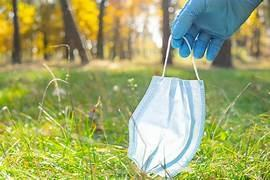Glove: (172, 0, 261, 59)
Mask: (128, 58, 204, 176)
